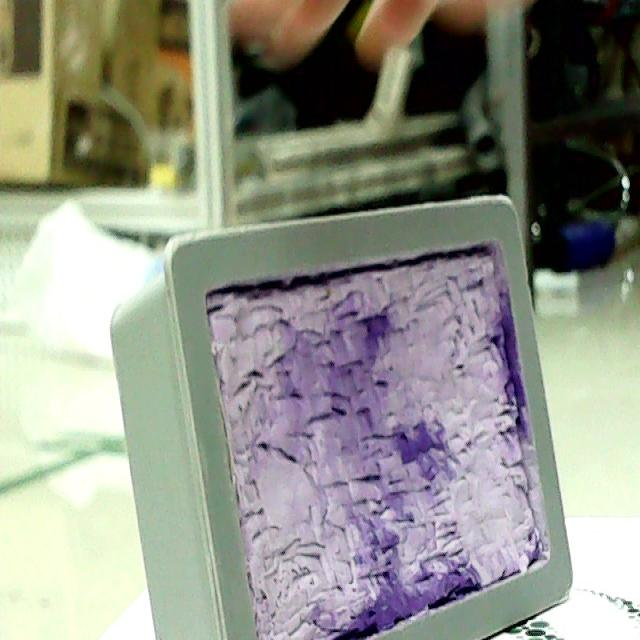block: (104, 205, 576, 640)
